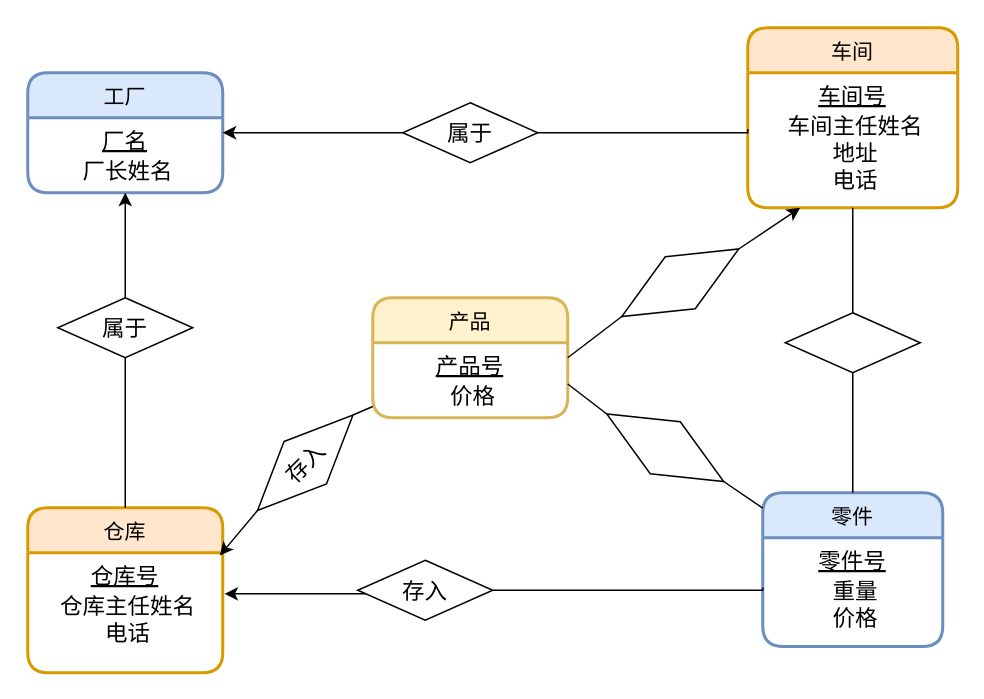
This 984x699 diagram has some shape labels left out. Each missing label, with the centre of its shape:
制造: (852,342)
生产: (679,282)
组成: (664,447)
